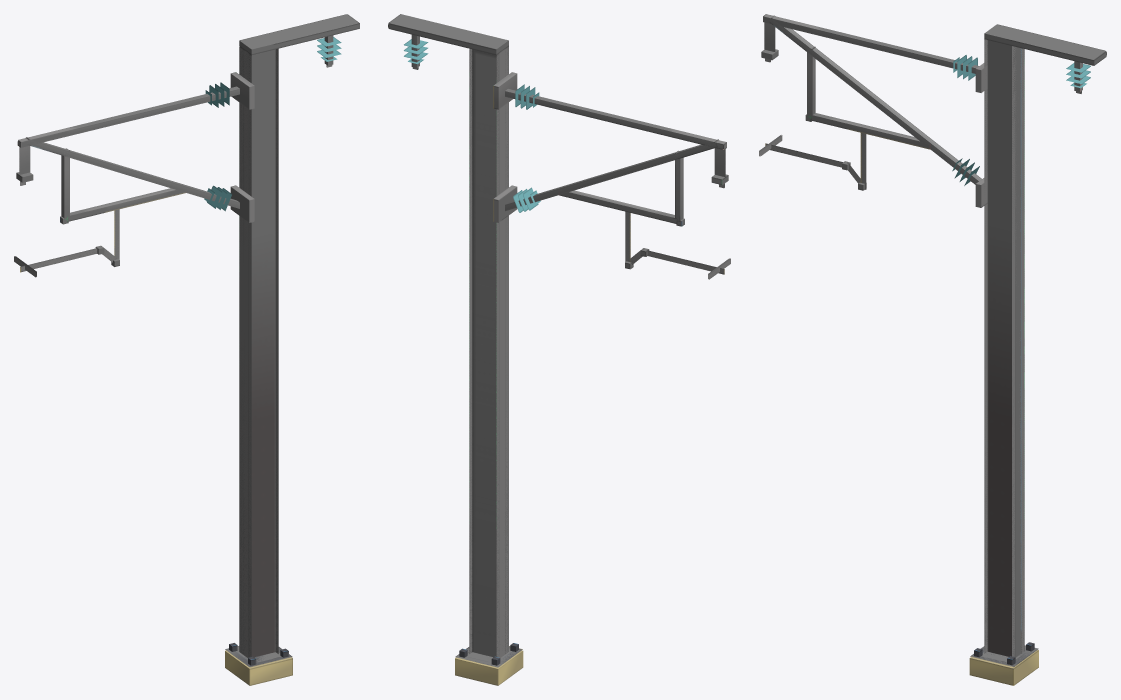
File: french_catenary_pole.obj
3 renders of one model, left to right at view 1: azimuth 30°, elevation 25°; view 2: azimuth 150°, elevation 25°; view 3: azimuth 330°, elevation 25°, orthographic.
Parts seen in each view (by area): view 1: cube; view 2: cube; view 3: cube.
Part boxes in pixels (left/top/right/bottom): cube: left=14, top=14, right=359, bottom=685; cube: left=388, top=14, right=730, bottom=685; cube: left=759, top=14, right=1106, bottom=685.
Size of the model in its own units: 3.84 by 6.95 by 0.5.
Materials: 1 (1 with a texture image).
